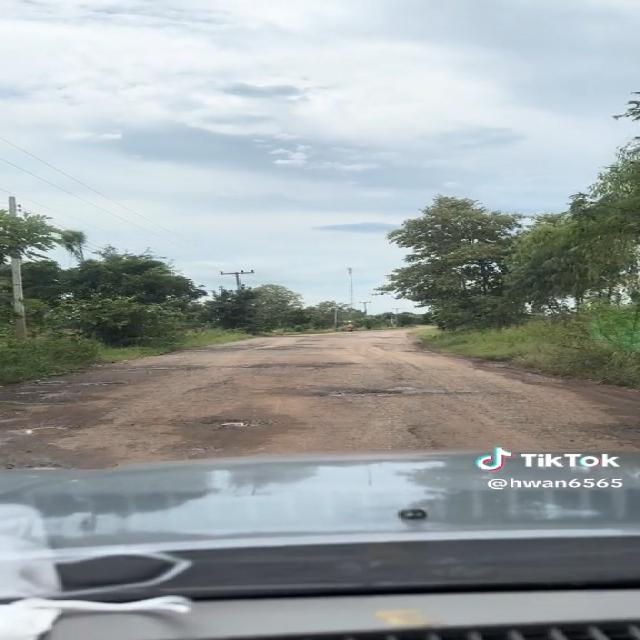Poth-hole: (186, 371, 286, 400)
